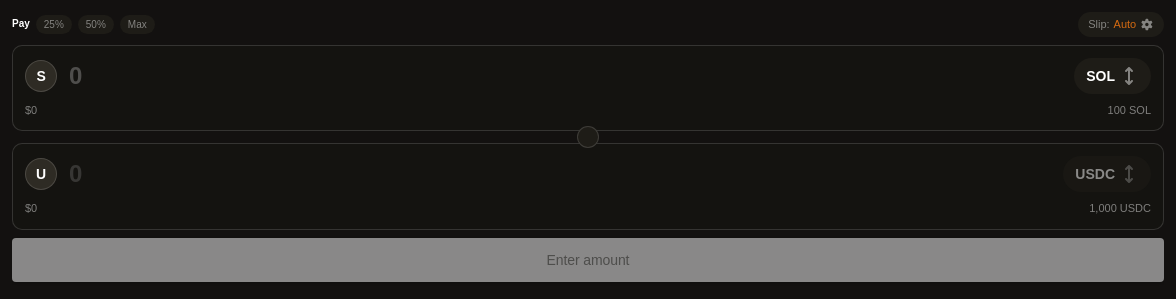
Test case: SwapWidget › Input Handling › should sanitize non-numeric input
Type "abc123.45def" into the field named "enter sol amount" at (566, 76), box [69,60,1062,92]
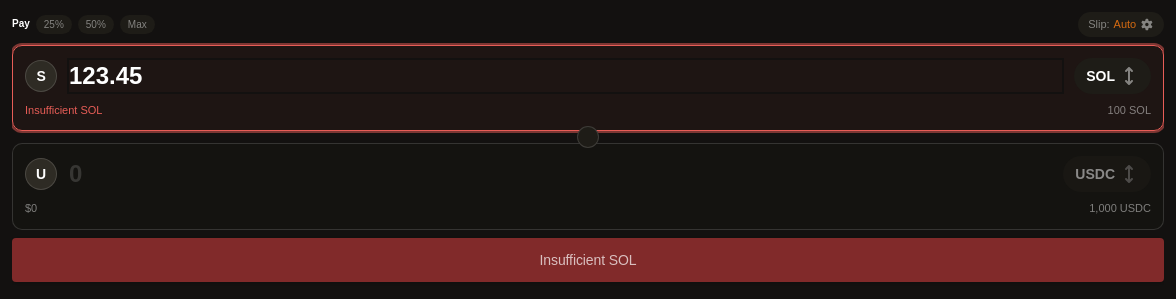
Result: the field named "enter sol amount" holds "123.45" at [69,60,1062,92]
